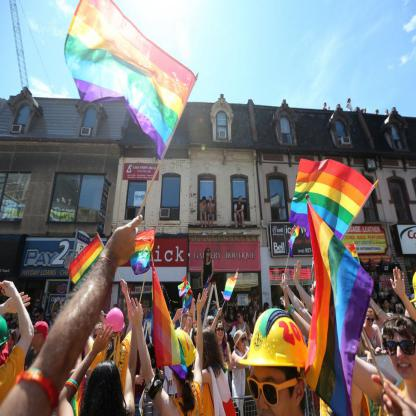face: (252, 364, 296, 416), (388, 331, 416, 380), (238, 334, 247, 350), (31, 329, 39, 347), (95, 331, 103, 349), (195, 329, 203, 346), (182, 313, 190, 329), (217, 324, 225, 339), (367, 314, 375, 328), (209, 320, 216, 333), (36, 313, 42, 322), (384, 300, 389, 309), (144, 304, 149, 313), (169, 312, 173, 321), (238, 315, 242, 323), (207, 249, 211, 256), (260, 314, 264, 321), (392, 296, 396, 302), (250, 307, 253, 314), (231, 308, 234, 314), (225, 311, 228, 317), (47, 315, 50, 321), (37, 301, 40, 307), (246, 315, 249, 321), (240, 198, 243, 203), (210, 198, 213, 203), (204, 200, 206, 205)
